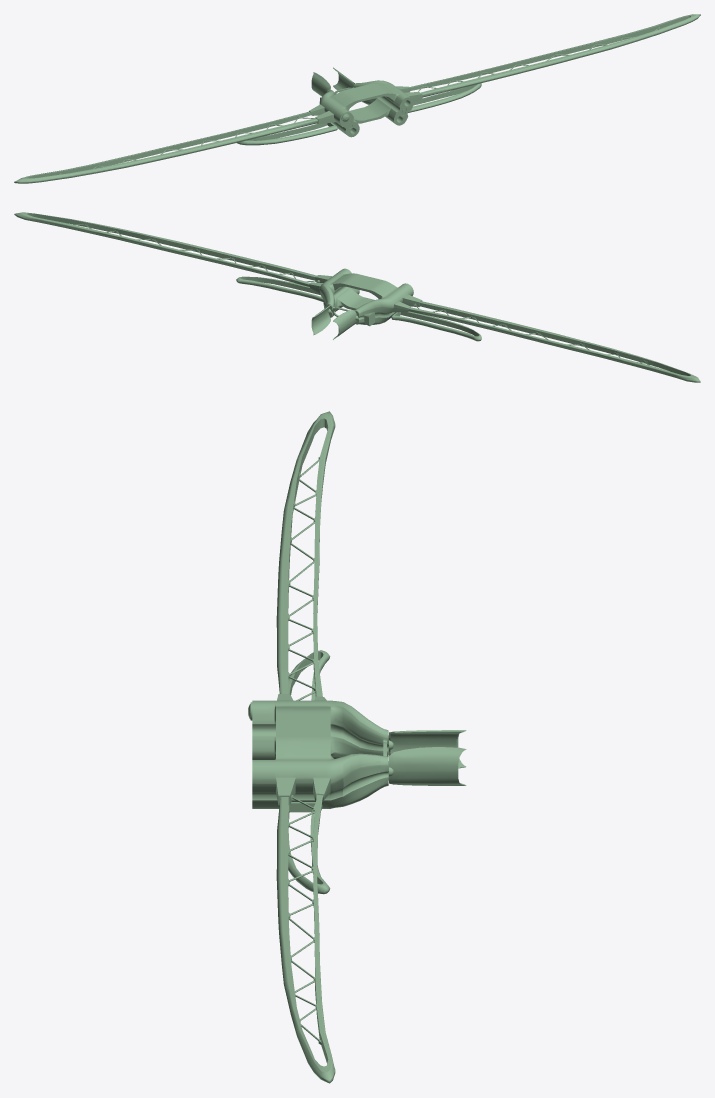
File: DarringerUV.obj
3 renders of one model, top to bottom at view 1: azimuth 30°, elevation 25°; view 2: azimuth 150°, elevation 25°; view 3: azimuth 270°, elevation 25°, orthographic. The views are drawn at different scales.
Parts seen in each view (by area): view 1: MainBody, wing_bot_left5, wing_bot_left4, tailfin_right2; view 2: MainBody, wing_bot_left5, wing_bot_left4, tailfin_right2, tailfin_right3; view 3: MainBody, tailfin_right3, tailfin_right2, wing_bot_left4.
Part boxes in pixels (bbox=[...]): MainBody: bbox=[14, 14, 700, 183]; wing_bot_left5: bbox=[237, 122, 337, 145]; wing_bot_left4: bbox=[408, 83, 481, 112]; tailfin_right2: bbox=[311, 72, 330, 96]; MainBody: bbox=[14, 212, 700, 382]; wing_bot_left5: bbox=[391, 311, 481, 341]; wing_bot_left4: bbox=[236, 276, 324, 302]; tailfin_right2: bbox=[333, 310, 356, 339]; tailfin_right3: bbox=[311, 304, 330, 335]; MainBody: bbox=[248, 411, 388, 1083]; tailfin_right3: bbox=[388, 747, 466, 785]; tailfin_right2: bbox=[388, 730, 466, 768]; wing_bot_left4: bbox=[288, 802, 330, 894].
Size of the model in its own units: 304 by 12.58 by 41.96.
